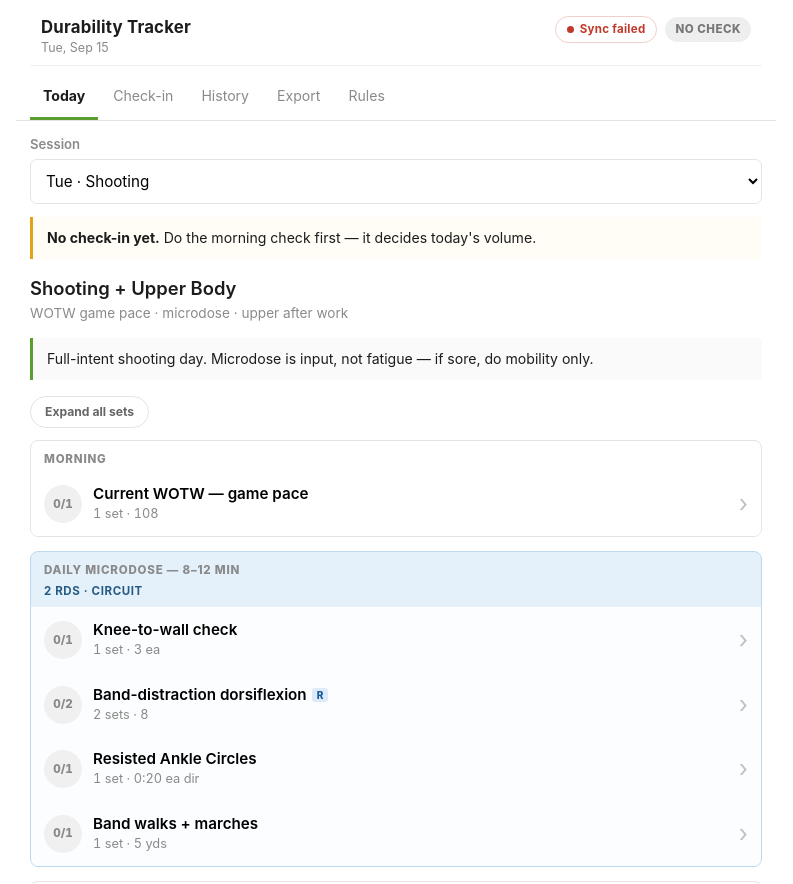
Test: exercise history › is collapsed until asked for, with a count
The width and height of the screenshot is (793, 884).
Select "Mon · Lower A" in the dropdown labelled "Session": (396,181) [30,159,762,204]
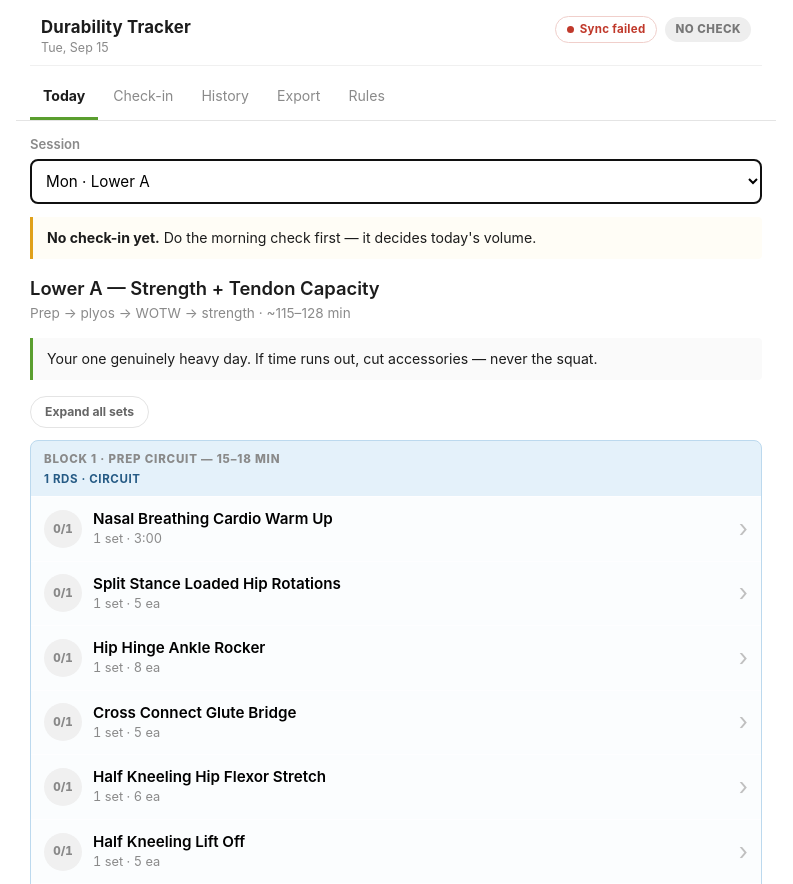
Click the button "Expand all sets": (90,412) [30,396,149,428]
(page scrolled)
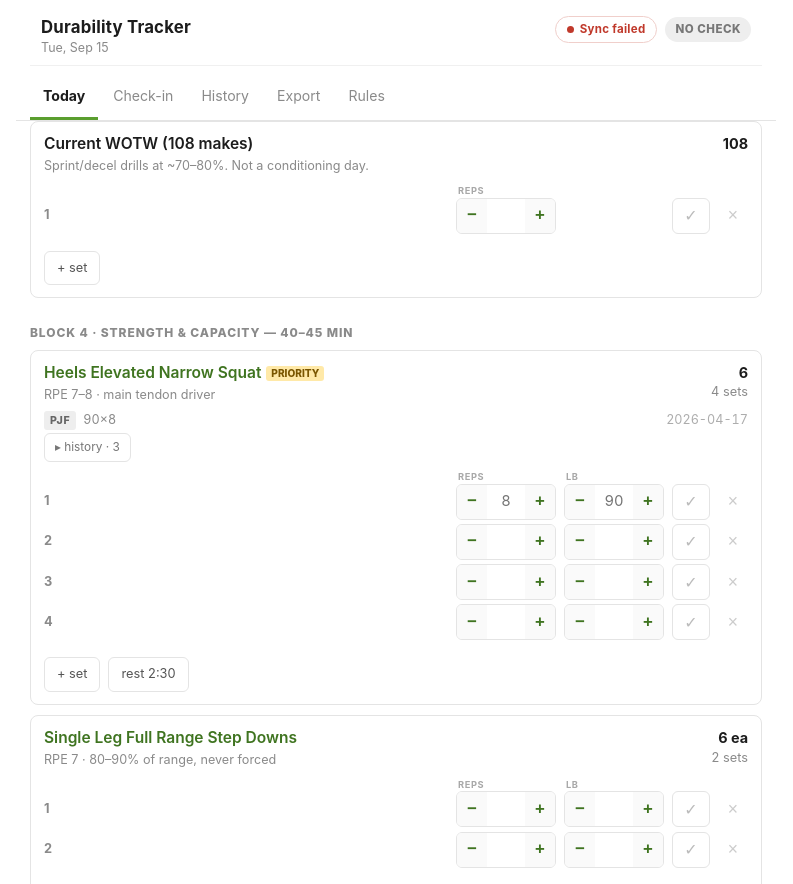
expect the button "▸ history · 3" is shown: met, box [44,433,131,462]
